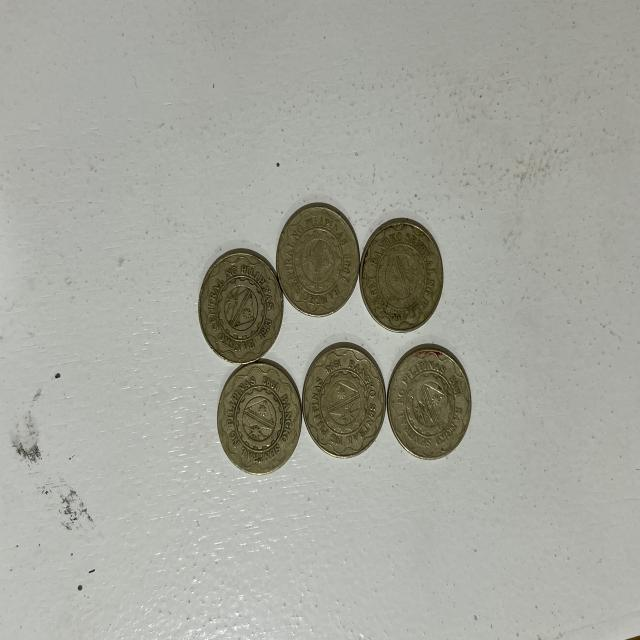5_Old_Back: (190, 246, 285, 358), (360, 215, 454, 322), (390, 345, 470, 469), (215, 361, 302, 475), (304, 346, 387, 464), (280, 206, 360, 316)
